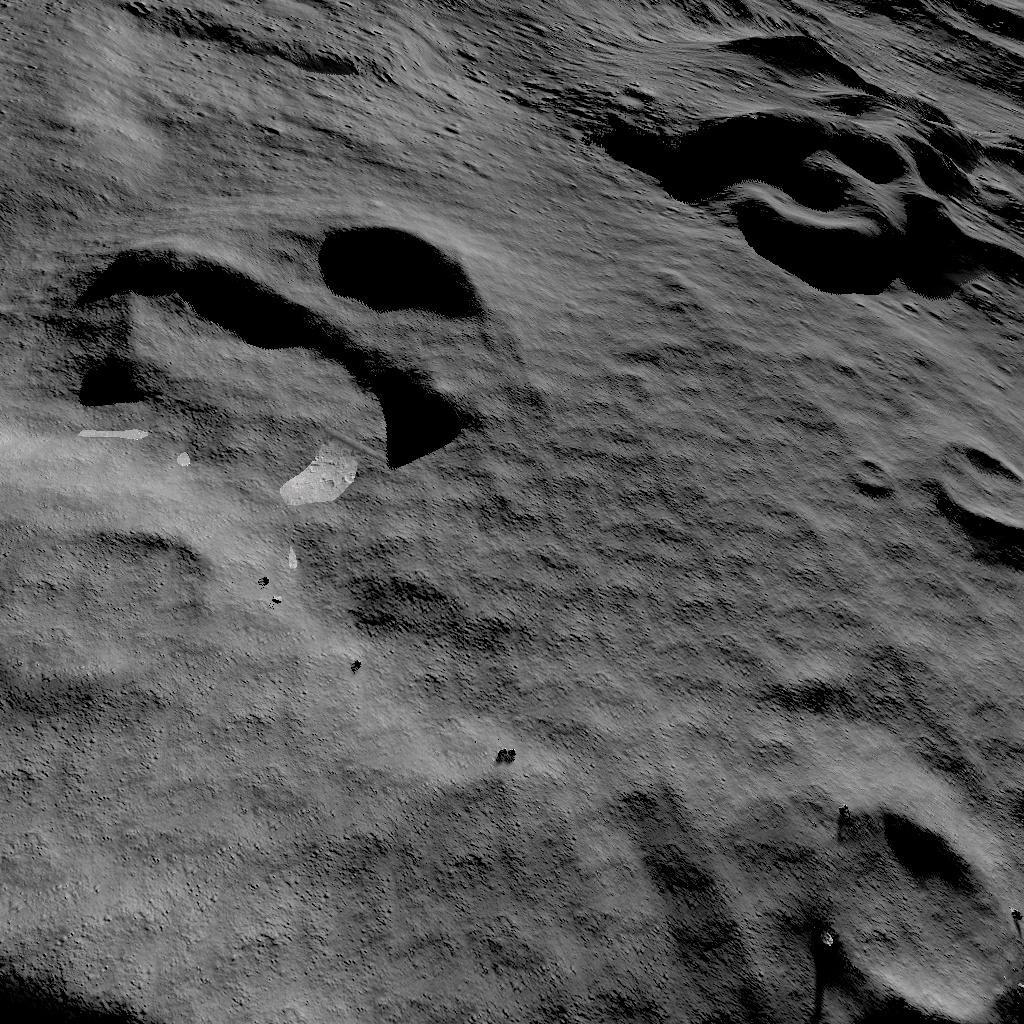Crater: (36, 173, 495, 456), (584, 0, 1024, 294), (776, 768, 1024, 1024), (0, 493, 235, 706), (0, 920, 219, 1024), (919, 410, 1024, 550), (826, 430, 891, 494)
Plan surface: (246, 760, 749, 1024), (526, 318, 811, 746), (0, 0, 571, 162)
